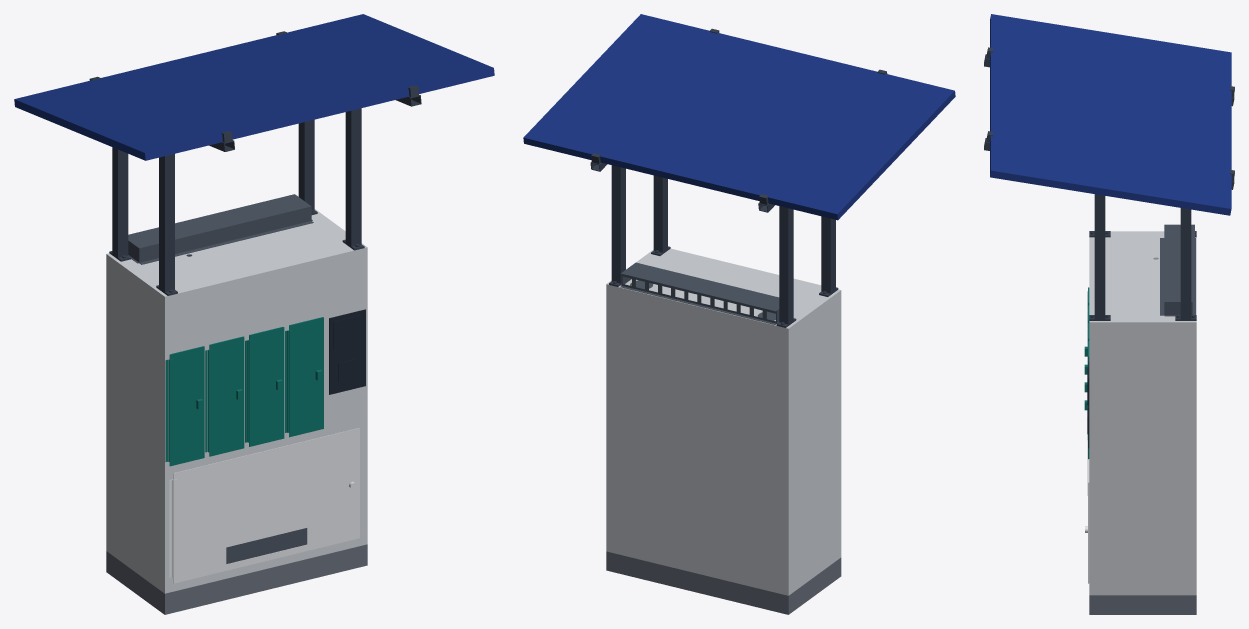
3 renders of one model, left to right at view 1: azimuth 30°, elevation 25°; view 2: azimuth 150°, elevation 25°; view 3: azimuth 270°, elevation 25°, orthographic. The views are drawn at different scales.
Parts seen in each view (by area): view 1: Cabinet body, galvanized steel, Solar panel, 400 W, Service door, Bay doors with solenoid locks, Canopy frame, Vent plenum, fans and roof hood, Plinth and anchor frame, Access panel (NFC reader, display); view 2: Cabinet body, galvanized steel, Solar panel, 400 W, Canopy frame, Plinth and anchor frame, Vent plenum, fans and roof hood; view 3: Solar panel, 400 W, Cabinet body, galvanized steel, Canopy frame, Vent plenum, fans and roof hood, Plinth and anchor frame, Bay doors with solenoid locks.
Boxes of the visible parts, box(x1,y1,x2,y2) form: Cabinet body, galvanized steel: box(106, 209, 367, 593); Solar panel, 400 W: box(14, 14, 494, 160); Service door: box(169, 428, 359, 583); Bay doors with solenoid locks: box(165, 317, 323, 466); Canopy frame: box(89, 31, 421, 295); Vent plenum, fans and roof hood: box(128, 194, 313, 563); Plinth and anchor frame: box(106, 544, 367, 614); Access panel (NFC reader, display): box(329, 309, 365, 394); Cabinet body, galvanized steel: box(606, 248, 841, 595); Solar panel, 400 W: box(523, 14, 955, 220); Canopy frame: box(590, 28, 887, 327); Plinth and anchor frame: box(606, 551, 841, 614); Vent plenum, fans and roof hood: box(620, 262, 779, 324); Solar panel, 400 W: box(990, 14, 1231, 215); Cabinet body, galvanized steel: box(1089, 231, 1196, 595); Canopy frame: box(984, 47, 1234, 320); Vent plenum, fans and roof hood: box(1160, 224, 1195, 316); Plinth and anchor frame: box(1089, 595, 1196, 614); Bay doors with solenoid locks: box(1084, 287, 1089, 459).
Bounding box in the file's own units: 1.72 × 2.45 × 1.16.
